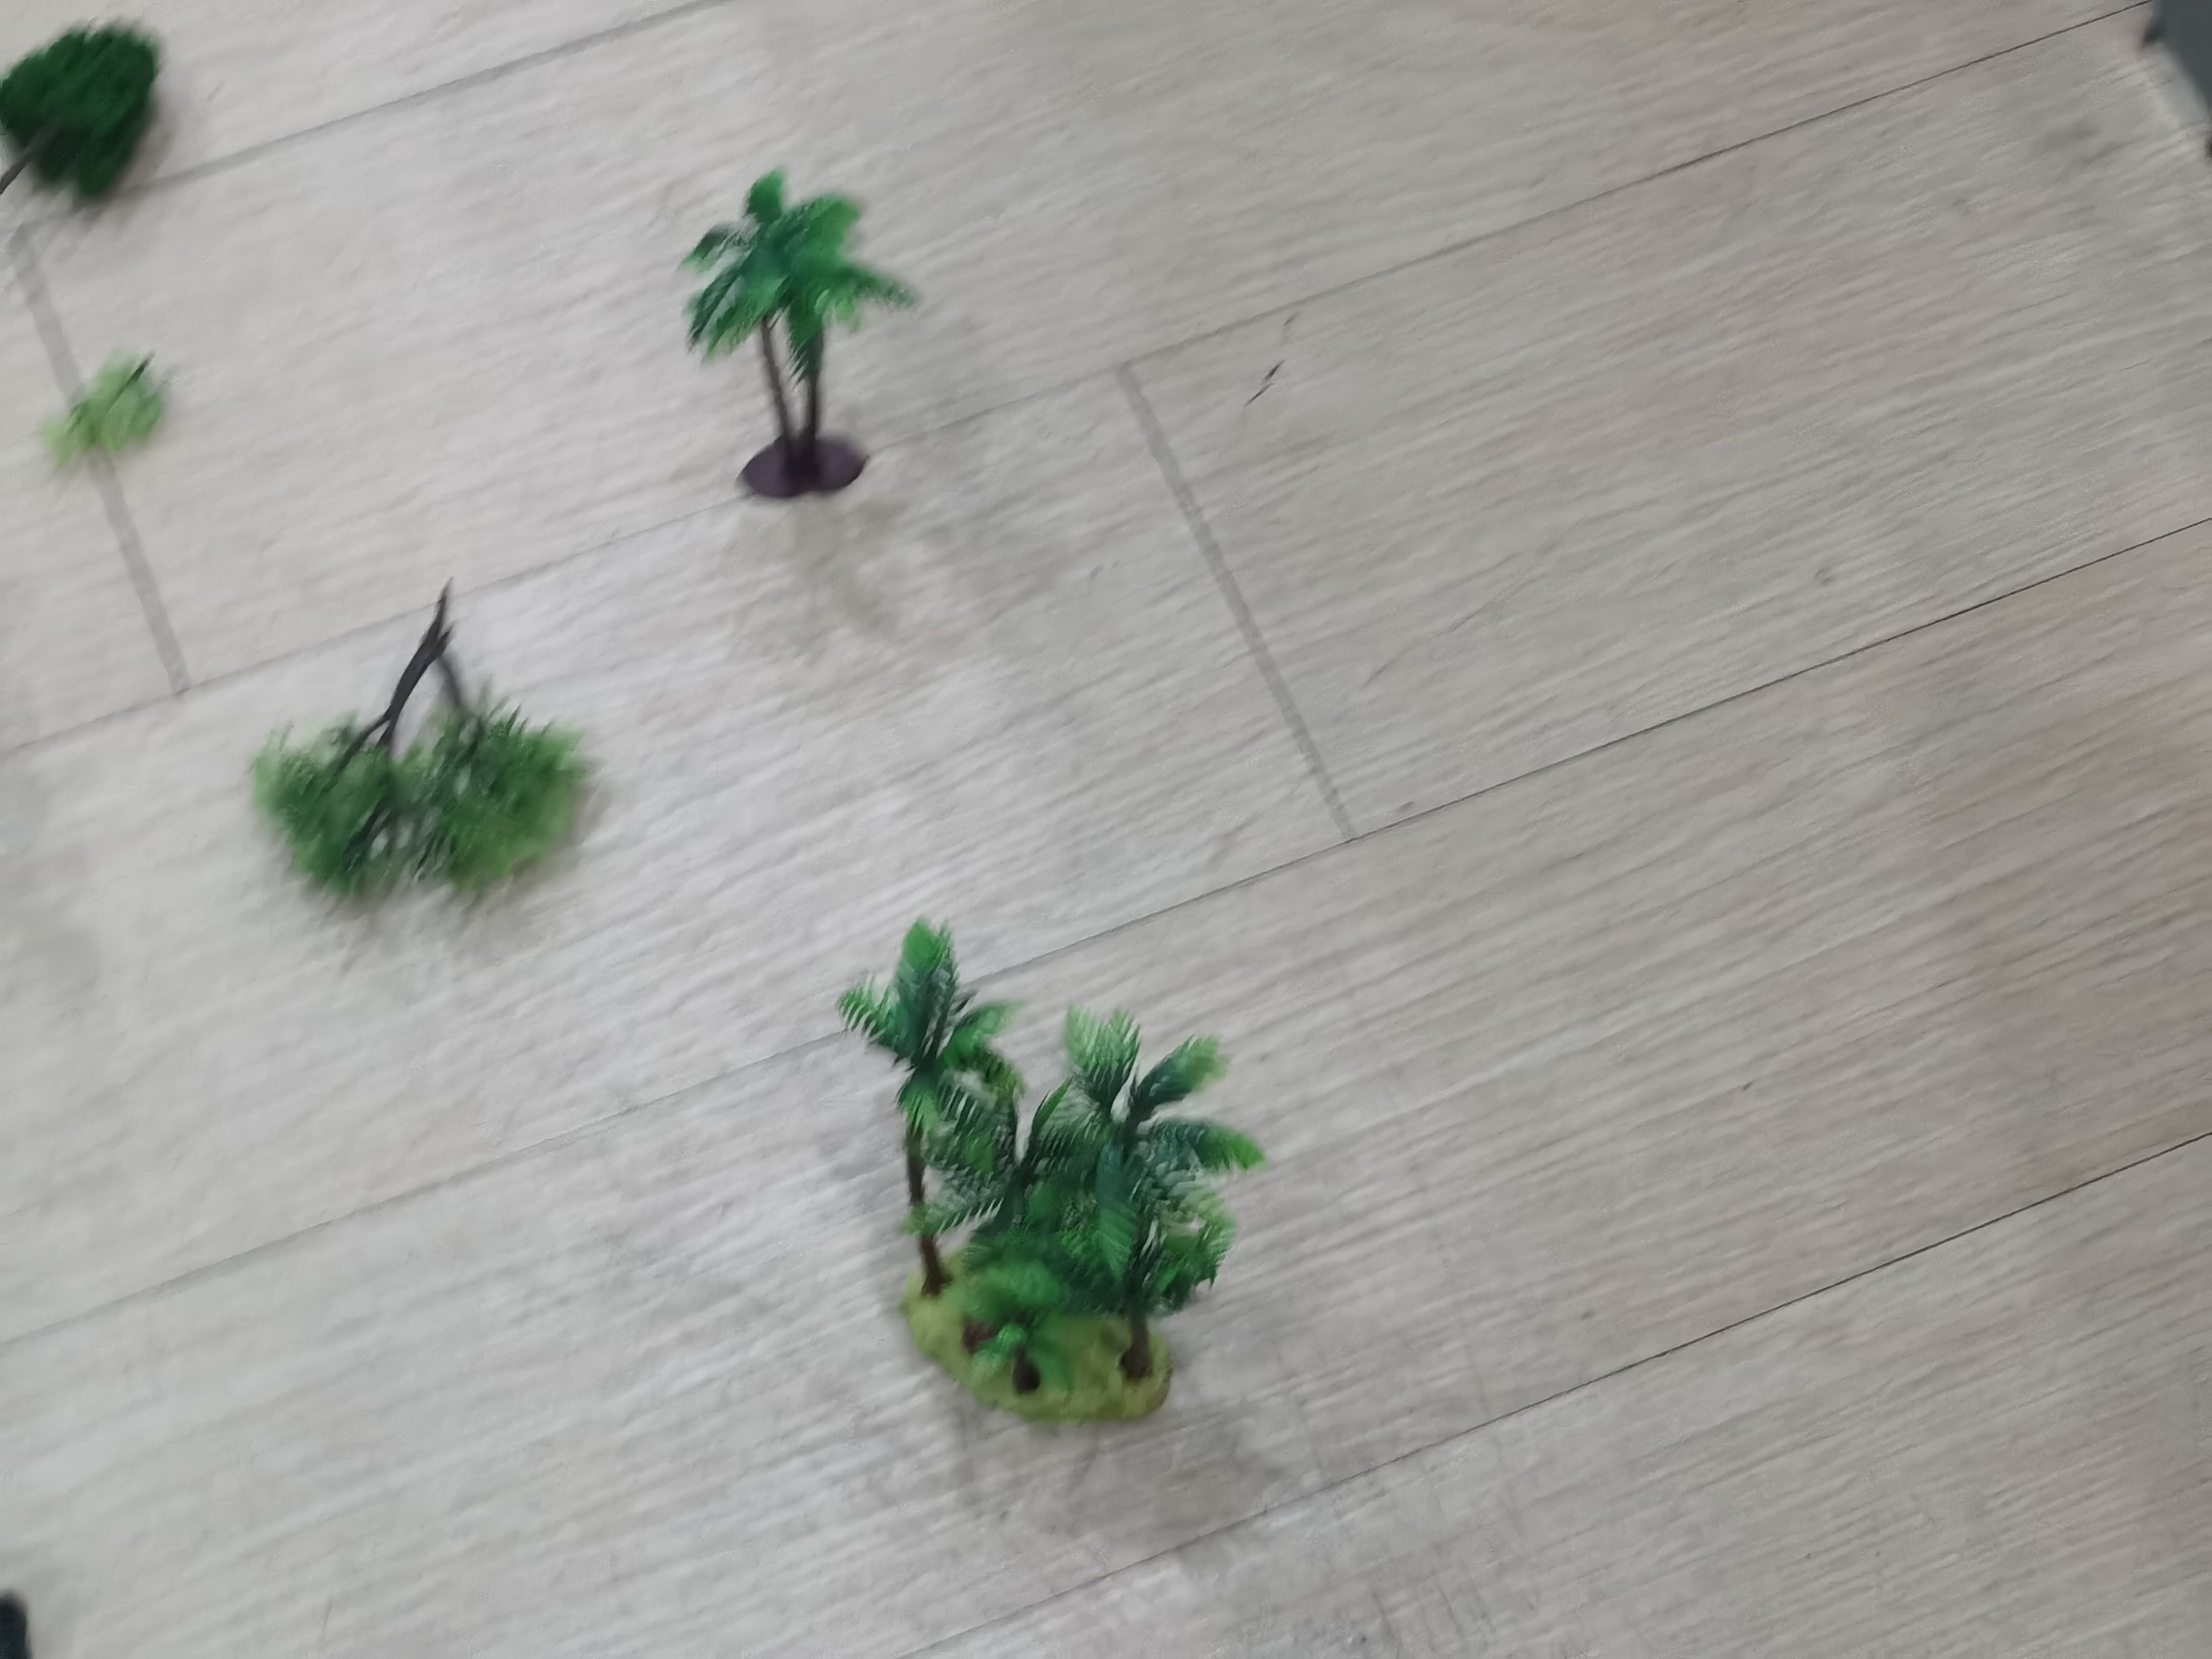corn: (831, 913, 1270, 1443), (678, 179, 921, 505)
